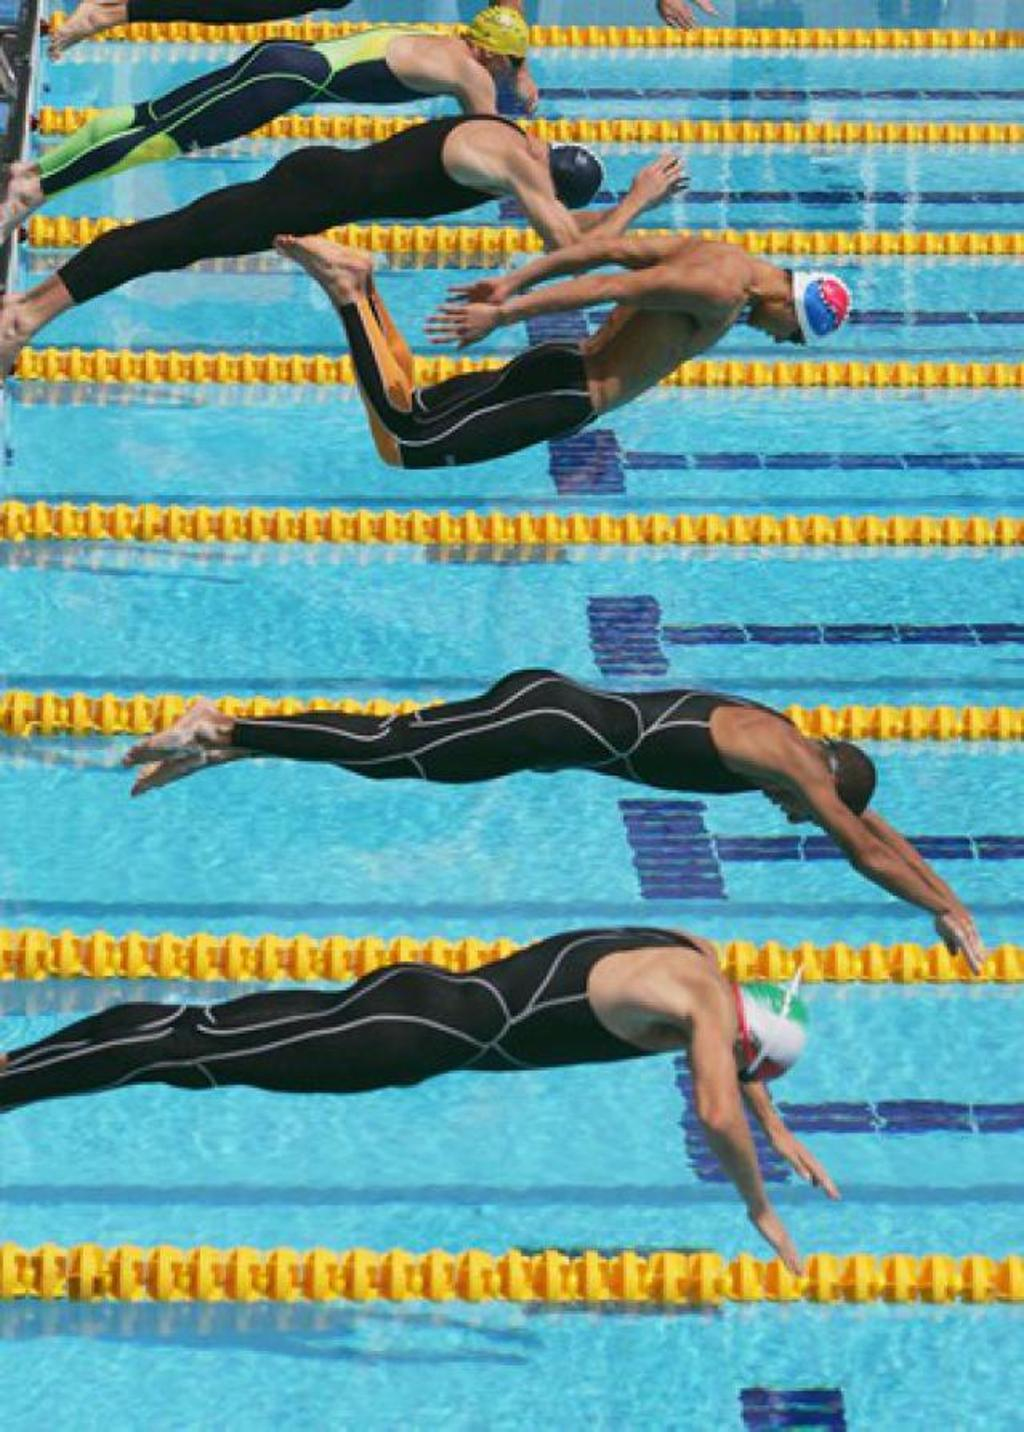face: (762, 772, 843, 825), (748, 300, 814, 345), (716, 1044, 782, 1085), (494, 42, 525, 80)
